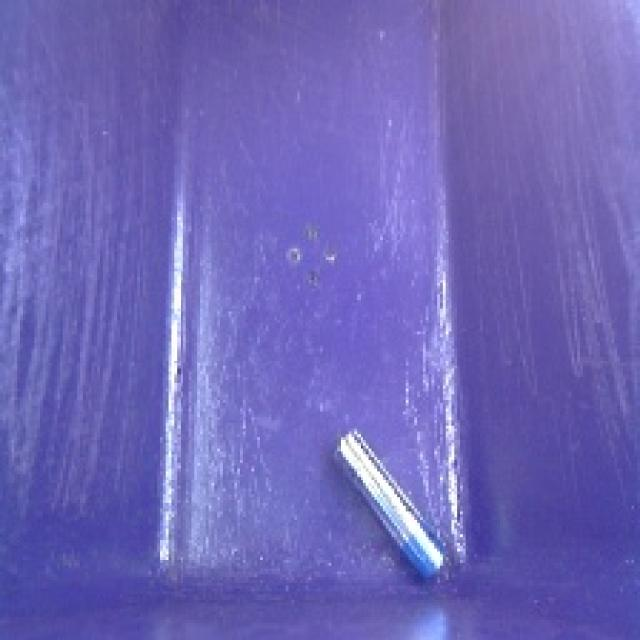battery: (324, 418, 452, 590)
